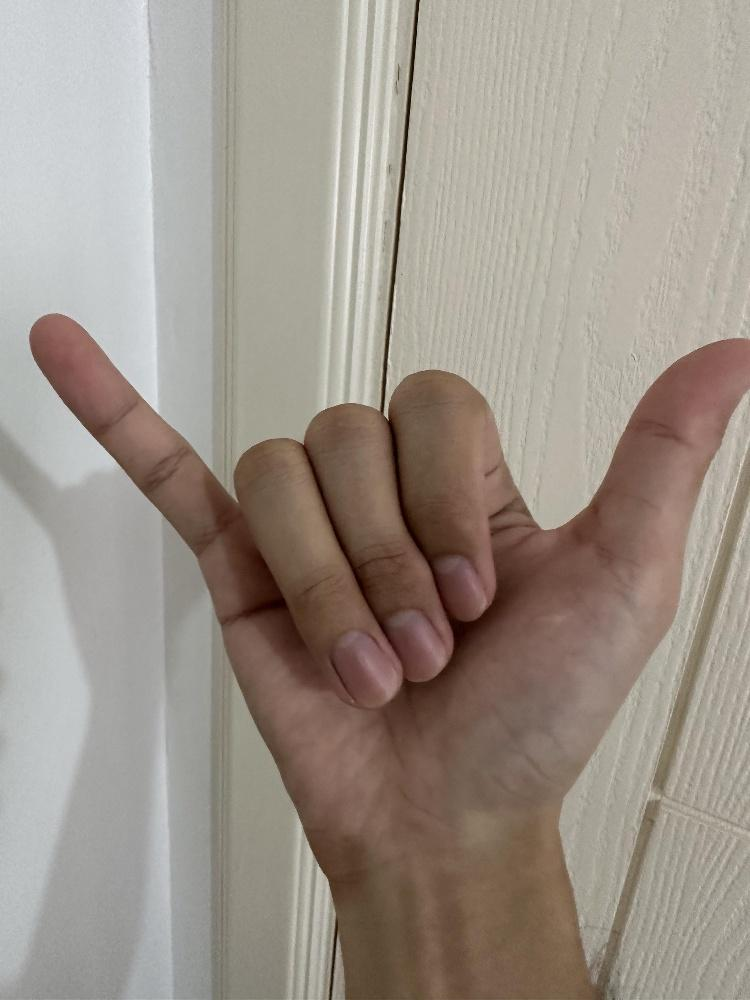y: (26, 308, 749, 885)
